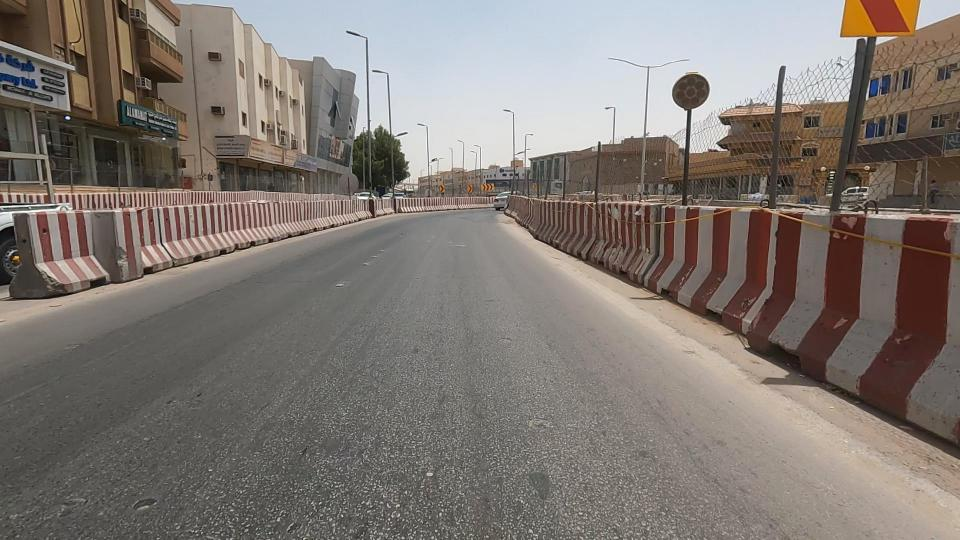CONSTRUCTION_ROAD: (454, 26, 960, 454), (0, 124, 307, 313), (452, 120, 666, 303), (166, 151, 415, 258), (340, 142, 524, 240)
